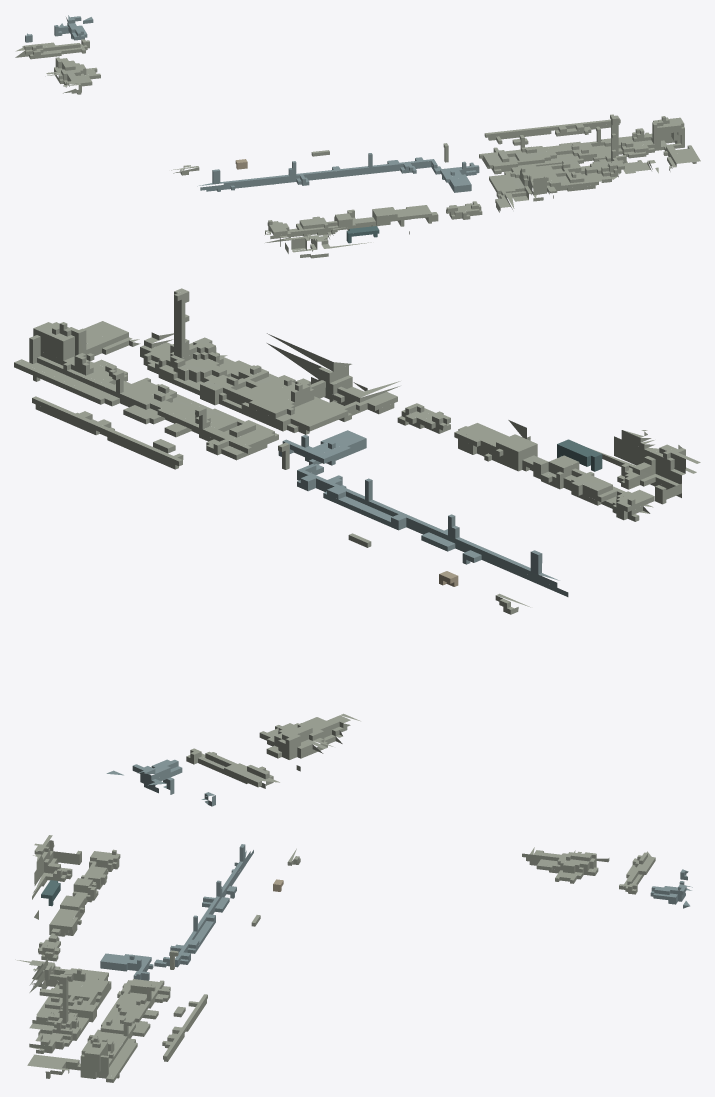
3 renders of one model, top to bottom at view 1: azimuth 30°, elevation 25°; view 2: azimuth 150°, elevation 25°; view 3: azimuth 270°, elevation 25°, orthographic. The views are drawn at different scales.
Visible parts, largest first — view 1: measured-industrial; view 2: measured-industrial; view 3: measured-industrial.
Part boxes in pixels (bbox=[...]): measured-industrial: bbox=[15, 15, 700, 258]; measured-industrial: bbox=[14, 288, 700, 806]; measured-industrial: bbox=[15, 835, 692, 1082].
Size of the model in its own units: 210 by 27.07 by 264.
